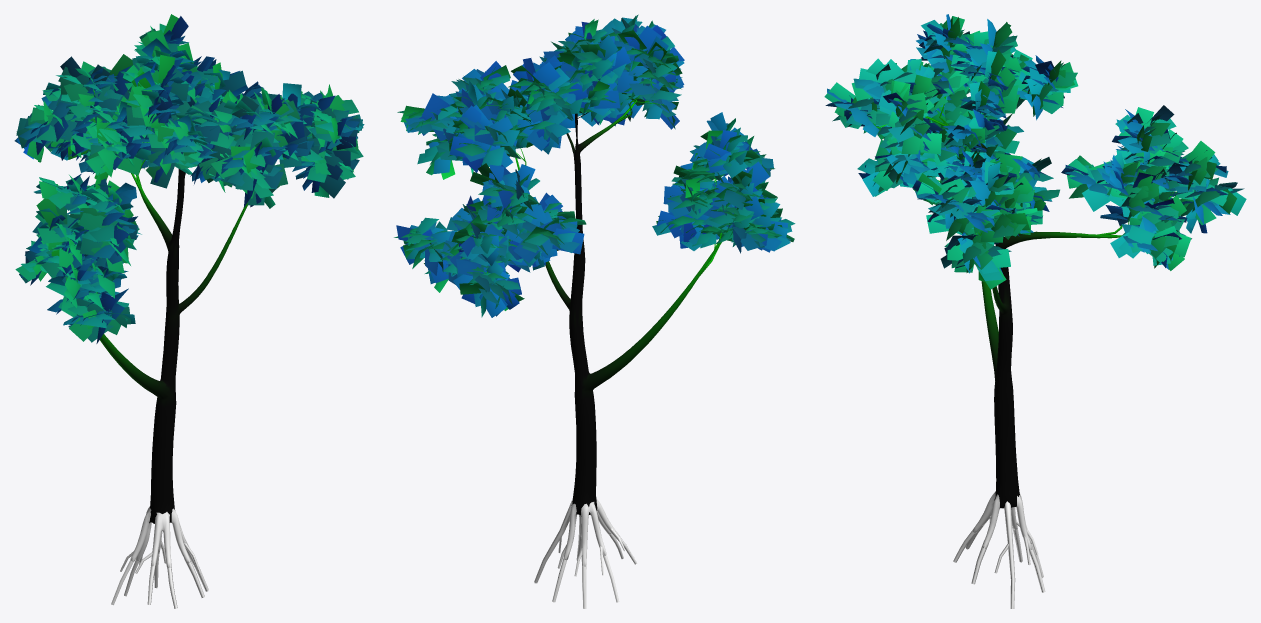
3 views of the same model, side by side, from view 1: azimuth 30°, elevation 25°; view 2: azimuth 150°, elevation 25°; view 3: azimuth 270°, elevation 25° (orthographic). The views are drawn at different scales.
Visible parts, largest first — view 1: Foliage, Trunk, Branches, Roots, RootTips; view 2: Foliage, Trunk, Branches, RootTips, Roots, Twigs; view 3: Foliage, Trunk, RootTips, Branches, Roots.
Boxes of the visible parts, x1,y1,x2,y2 form: Foliage: [14, 14, 364, 343]; Trunk: [149, 169, 184, 523]; Branches: [100, 175, 247, 399]; Roots: [130, 506, 190, 567]; RootTips: [111, 524, 208, 608]; Foliage: [394, 14, 795, 317]; Trunk: [569, 136, 597, 516]; Branches: [516, 103, 720, 391]; RootTips: [534, 501, 637, 608]; Roots: [563, 498, 619, 566]; Twigs: [484, 72, 730, 275]; Foliage: [824, 14, 1246, 289]; Trunk: [994, 237, 1019, 508]; RootTips: [953, 501, 1045, 608]; Branches: [932, 120, 1119, 380]; Roots: [972, 492, 1032, 550].
Size of the model in its own units: 10490 by 10834 by 15874.
